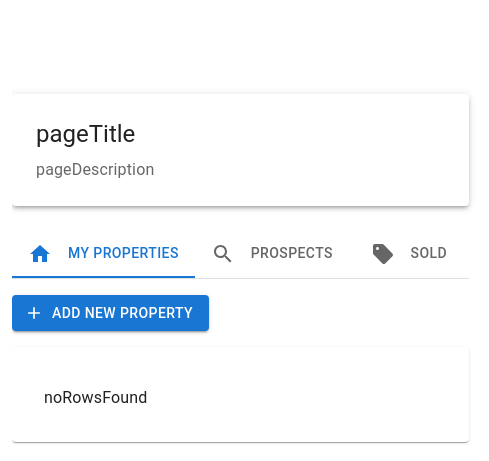
Test: Properties Mobile-Friendly Tabs › Tab Content Loading › shows loading state when switching tabs
This screenshot has width=489, height=461.
// Switch to prospects tab
Click the tab "Prospects" at [272, 254], box top-left (195, 230), bottom-right (349, 278)
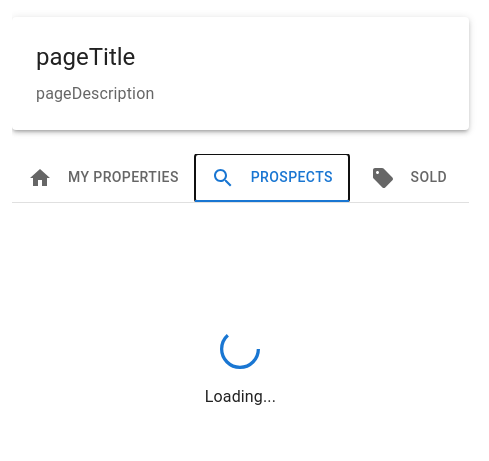
Result: the progress indicator is shown at top-left (220, 329), bottom-right (260, 369)
